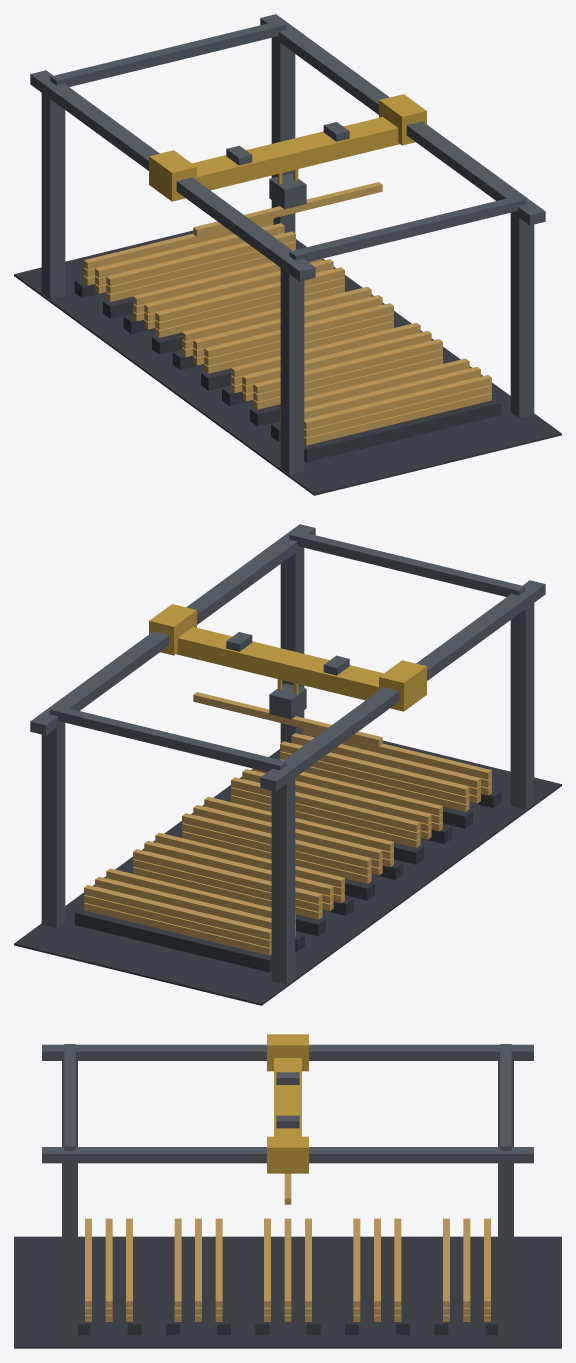
The model's file is gantry_yard_billet.glb.
3 views of the same model, one above another, from view 1: azimuth 30°, elevation 25°; view 2: azimuth 150°, elevation 25°; view 3: azimuth 270°, elevation 25° (orthographic). The views are drawn at different scales.
Parts seen in each view (by area): view 1: yard_billet_static_steel_light, yard_billet_static_steel_dark, stock_b4, stock_b3, stock_b2, stock_b0, stock_b1, crane_bridge, crane_payload, truck_-2.6, truck_2.6, crane_hook; view 2: yard_billet_static_steel_light, yard_billet_static_steel_dark, stock_b0, stock_b1, stock_b2, stock_b4, stock_b3, crane_bridge, crane_payload, truck_-2.6, truck_2.6, crane_hook; view 3: yard_billet_static_steel_dark, yard_billet_static_steel_light, stock_b1, stock_b3, stock_b0, stock_b4, stock_b2, crane_bridge, truck_2.6, truck_-2.6.
Part boxes in pixels (x1,y1,x2,y2): yard_billet_static_steel_light: [30, 14, 545, 474]; yard_billet_static_steel_dark: [14, 230, 561, 495]; stock_b4: [280, 358, 491, 445]; stock_b3: [231, 322, 442, 409]; stock_b2: [182, 286, 393, 373]; stock_b0: [84, 218, 295, 301]; stock_b1: [133, 258, 344, 337]; crane_bridge: [192, 117, 399, 190]; crane_payload: [193, 182, 382, 236]; truck_-2.6: [149, 150, 196, 201]; truck_2.6: [379, 94, 426, 145]; crane_hook: [269, 173, 306, 209]; yard_billet_static_steel_light: [30, 524, 545, 984]; yard_billet_static_steel_dark: [14, 740, 561, 1005]; stock_b0: [84, 868, 295, 955]; stock_b1: [133, 832, 344, 919]; stock_b2: [182, 796, 393, 883]; stock_b4: [280, 728, 491, 811]; stock_b3: [231, 768, 442, 847]; crane_bridge: [176, 627, 383, 700]; crane_payload: [193, 692, 382, 746]; truck_-2.6: [379, 660, 426, 711]; truck_2.6: [149, 604, 196, 655]; crane_hook: [269, 683, 306, 719]; yard_billet_static_steel_dark: [14, 1236, 561, 1348]; yard_billet_static_steel_light: [42, 1044, 533, 1346]; stock_b1: [353, 1218, 401, 1321]; stock_b3: [174, 1218, 222, 1321]; stock_b0: [443, 1218, 490, 1321]; stock_b4: [85, 1218, 132, 1321]; stock_b2: [264, 1218, 311, 1321]; crane_bridge: [274, 1058, 301, 1136]; truck_2.6: [267, 1136, 308, 1173]; truck_-2.6: [267, 1034, 308, 1071].
Bounding box in the file's own units: 5.76 × 4.8 × 11.76.
